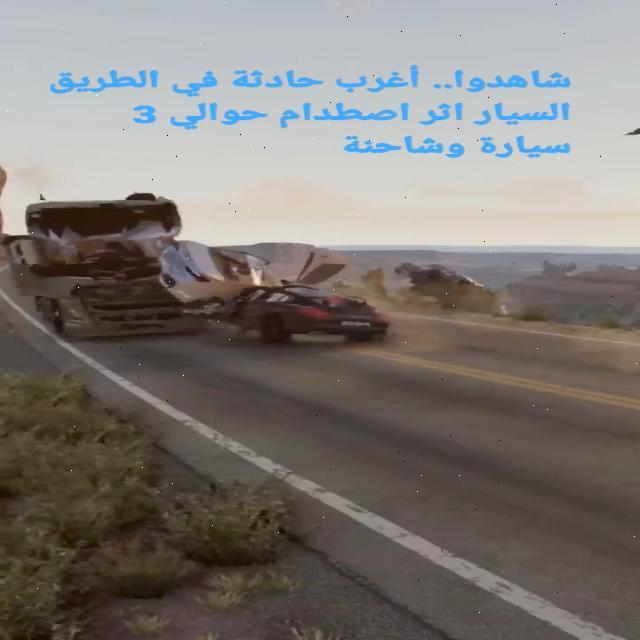accident: (0, 187, 388, 356)
